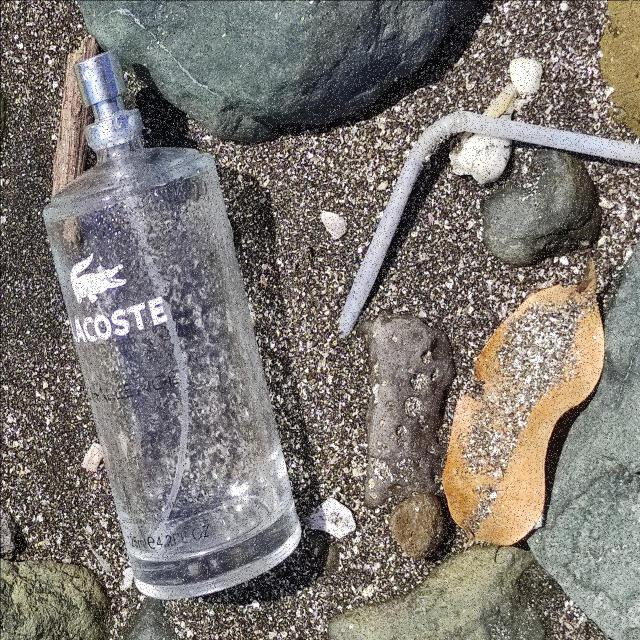plastic_waste: (41, 48, 305, 605), (337, 109, 640, 339)
